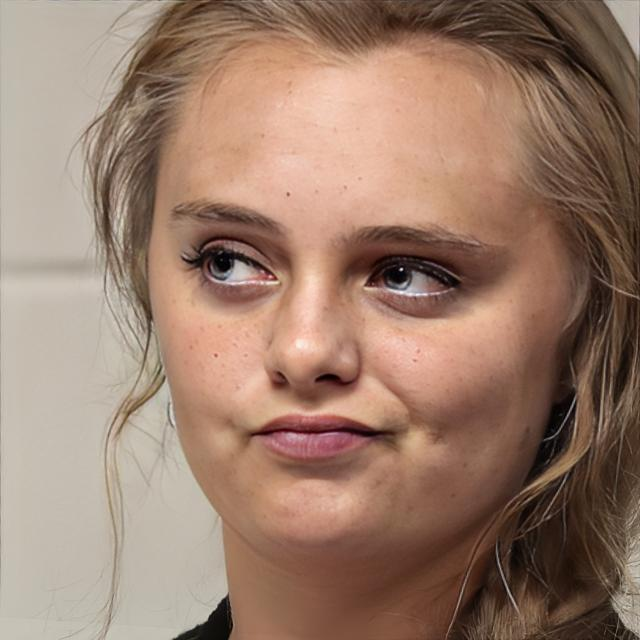content: (152, 41, 562, 547)
